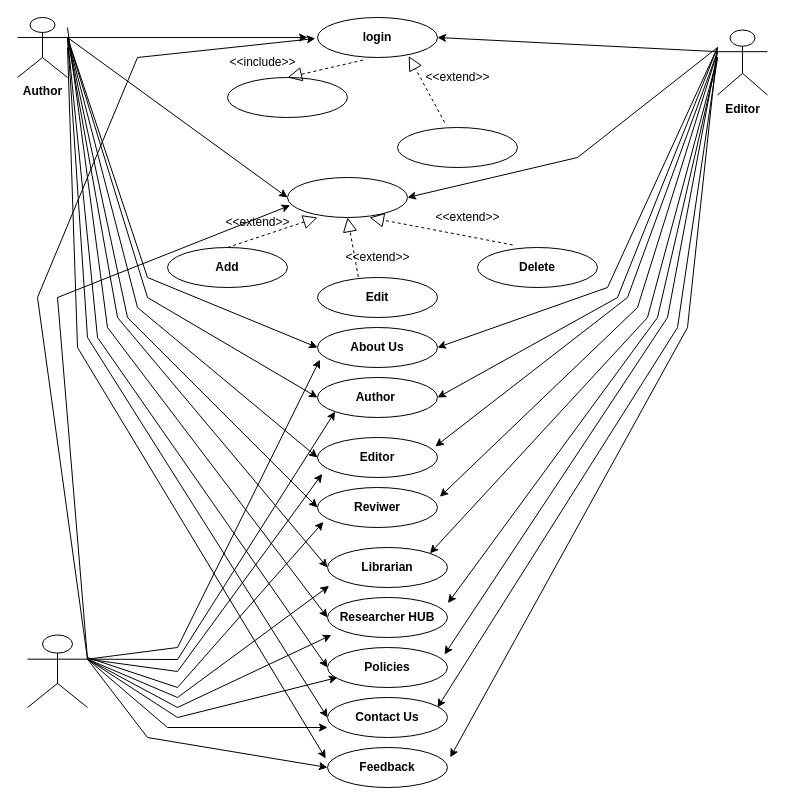
Some shapes in this 785 by 805 pixel diagram are drawn without their labels. The shapes that lost their labels are listed below. From the top down, each one's centre as x and y in pixels, then its label:
At pixel 287 97: "signUp".
At pixel 457 147: "Forget Password".
At pixel 347 197: "Mnange Website".
At pixel 57 671: "Reviewer".
